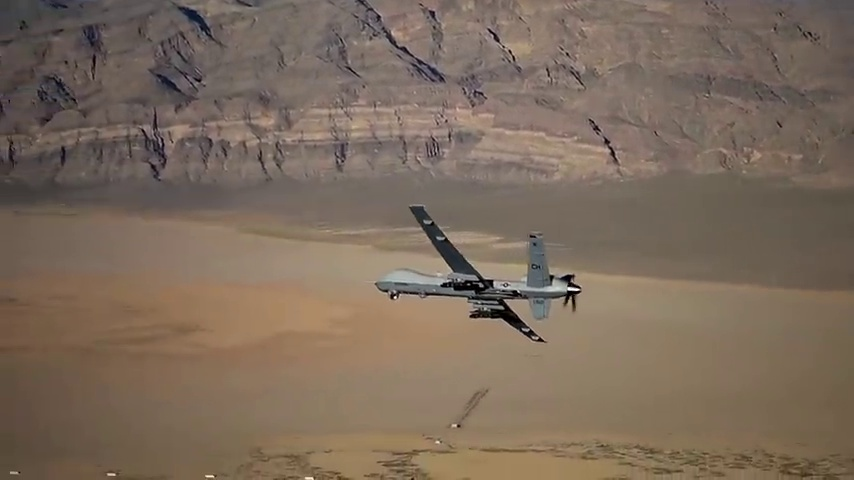military drone: (365, 205, 581, 342)
